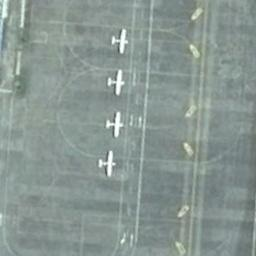Airplane: (108, 24, 132, 55), (103, 109, 127, 140), (105, 68, 128, 100), (97, 148, 117, 178)
